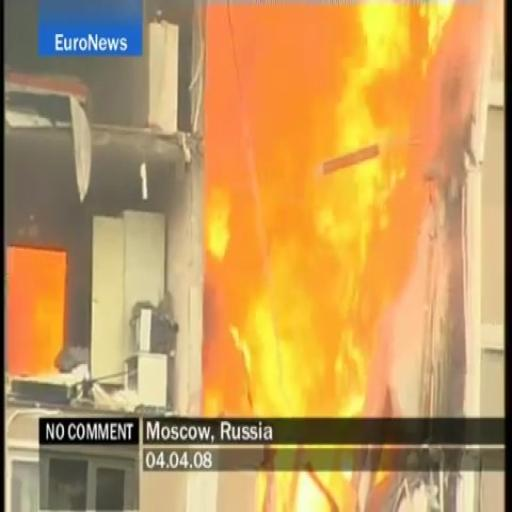fire: (204, 0, 490, 418), (5, 243, 64, 380)
